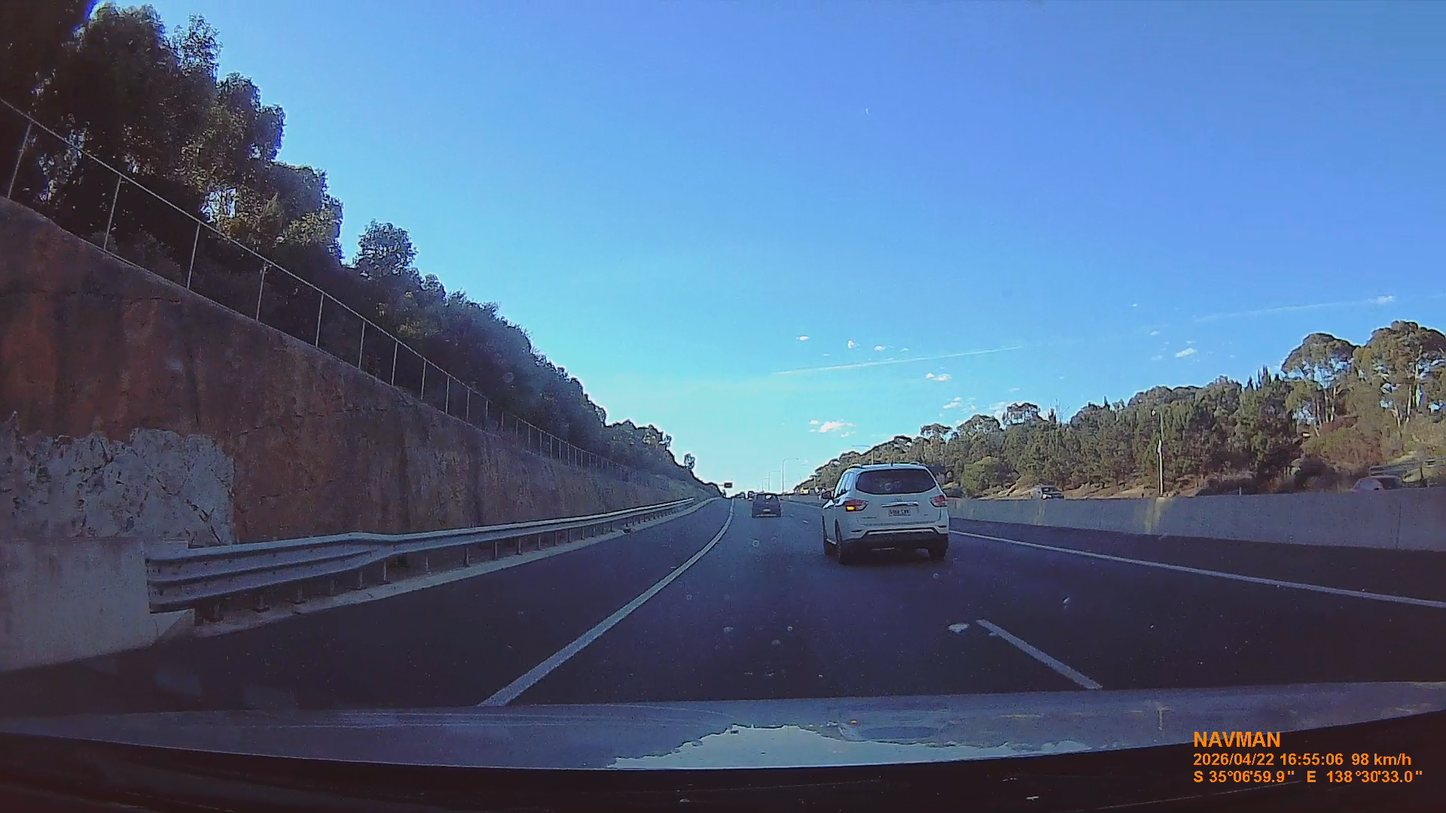fences: (47, 157, 611, 468)
road barriers: (147, 501, 704, 628), (950, 488, 1445, 552)
